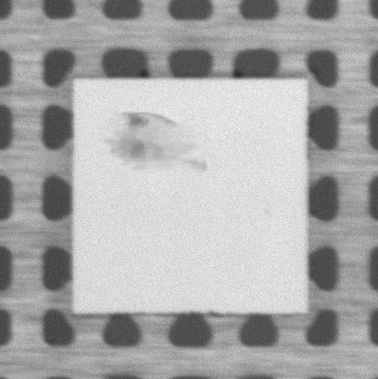DIE_INK: (105, 109, 205, 170)
